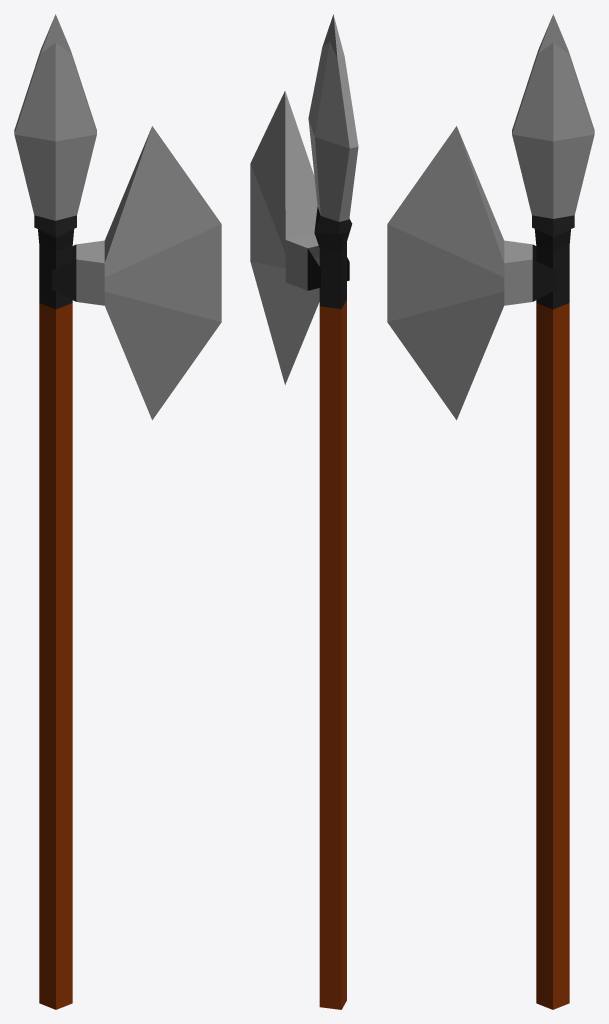
File: pike.obj
3 renders of one model, left to right at view 1: azimuth 90°, elevation 25°; view 2: azimuth 210°, elevation 25°; view 3: azimuth 270°, elevation 25°, orthographic.
Parts seen in each view (by area): view 1: pike; view 2: pike; view 3: pike.
Boxes of the visible parts, x1,y1,x2,y2 form: pike: [14, 14, 221, 1009]; pike: [250, 14, 358, 1009]; pike: [387, 14, 594, 1009].
Bounding box in the file's own units: 0.0467 × 0.9465 × 0.1798.
